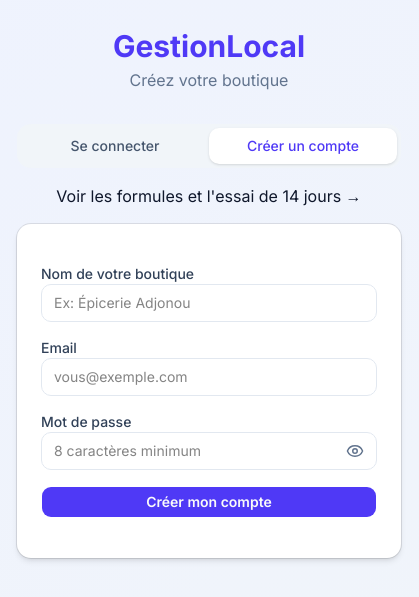
Test: LoginPage — inscription › refus serveur : affiche l’erreur
Type "Ma Boutique" into the field labelled "Nom de votre boutique" at point(209, 303), box [41,284,377,322]
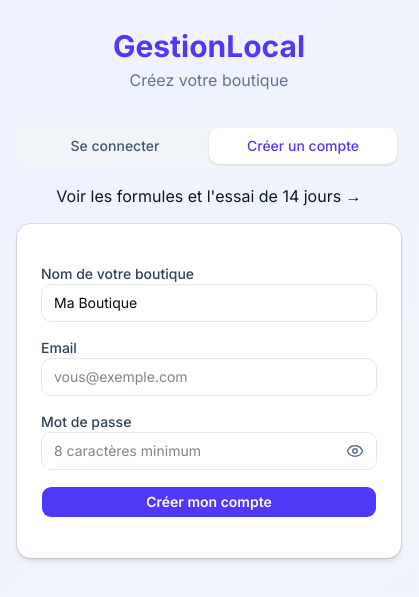
Type "a@b.c" into the field labelled "Email" at point(209, 377), box [41,358,377,396]
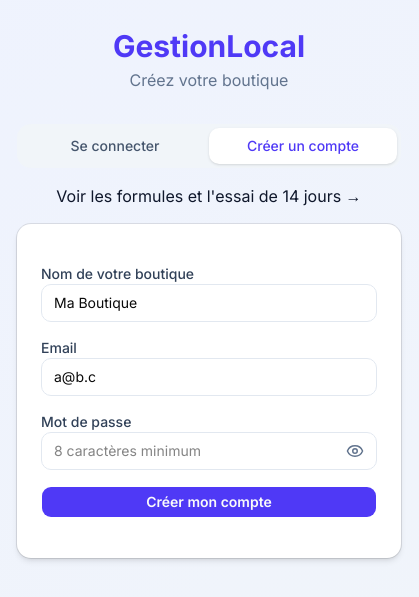
Type "secret1" into the password field labelled "Mot de passe" at point(209, 451), box [41,432,377,470]
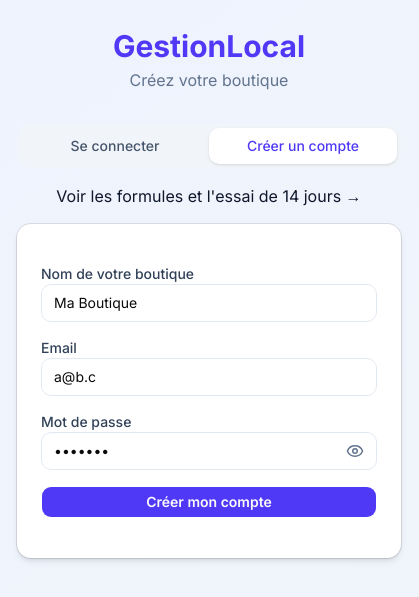
Click the button "Créer mon compte" at point(209, 502), box [41,486,377,518]
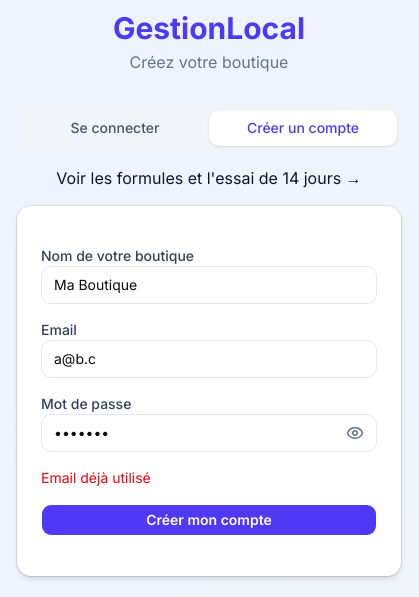
expect the text "Email déjà utilisé" is shown: met, box [41,469,151,486]
